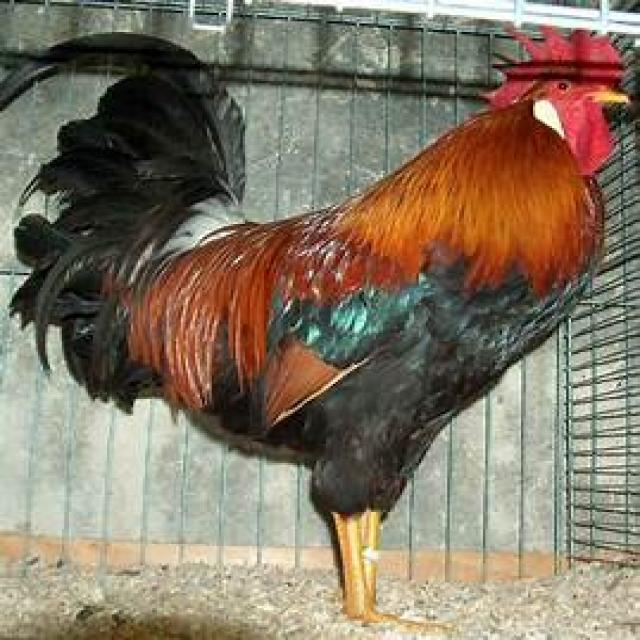animal: (0, 19, 635, 634)
